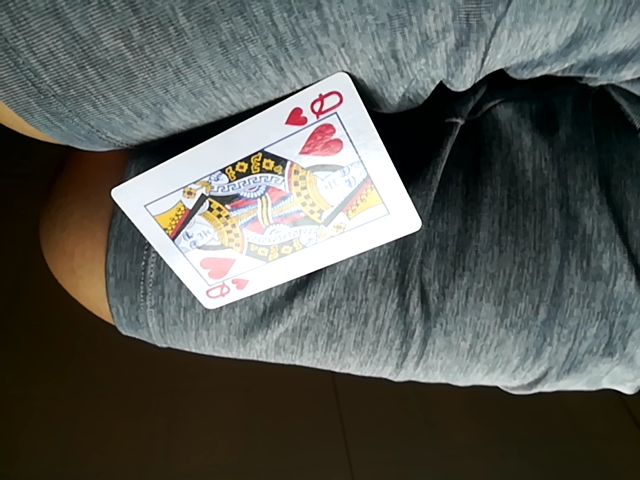hx q: (110, 71, 423, 315)
